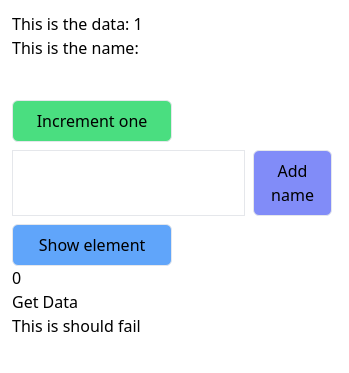
Test: TestPinia.vue › check if conditional element was rendered
The image size is (349, 373).
Click the button with test id "btn-conditional". click: point(92, 245)
box: [12,224,172,266]
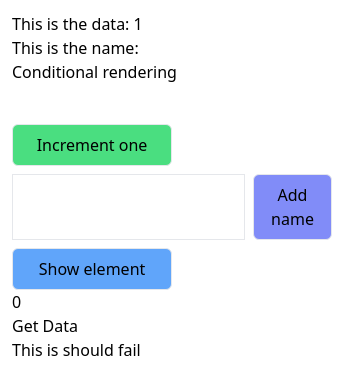
Now the text "Conditional rendering" is shown, box [12,61,177,83]
